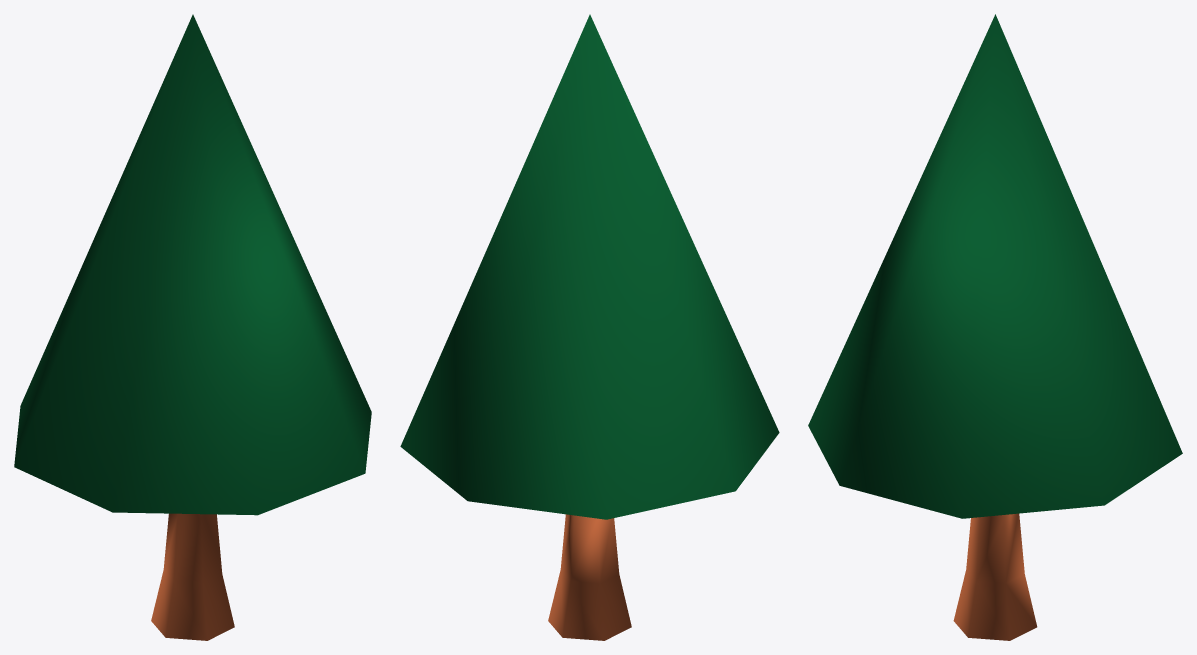
The model's file is Tree_04.fbx.
The picture shows the model from 3 angles, left to right: view 1: azimuth 30°, elevation 25°; view 2: azimuth 150°, elevation 25°; view 3: azimuth 270°, elevation 25°; orthographic projection.
Visible parts, largest first — view 1: tree_04; view 2: tree_04; view 3: tree_04.
Part boxes in pixels (<box>): tree_04: <box>14,14,371,640</box>; tree_04: <box>400,14,779,640</box>; tree_04: <box>808,14,1182,640</box>.
Size of the model in its own units: 419 by 752 by 419.
Materials: 1 (1 with a texture image).
